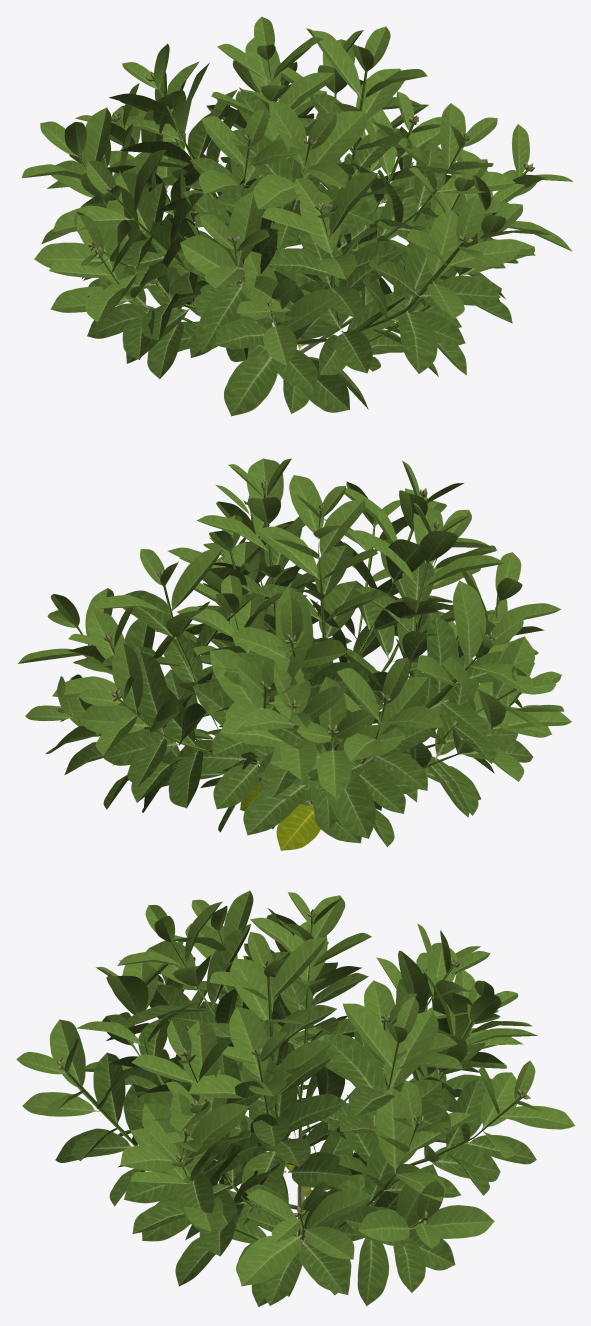
The model's file is geranium.glb.
3 renders of one model, top to bottom at view 1: azimuth 30°, elevation 25°; view 2: azimuth 150°, elevation 25°; view 3: azimuth 270°, elevation 25°, orthographic.
Parts seen in each view (by area): view 1: Ixora_chinensis_red_HD_Ixora leaf 01a_0, Ixora_chinensis_red_HD_Ixora leaf 01d_0, Ixora_chinensis_red_HD_Ixora twig_0, Ixora_chinensis_red_HD_Ixora branches_0, Ixora_chinensis_red_HD_Ixora bud_0; view 2: Ixora_chinensis_red_HD_Ixora leaf 01a_0, Ixora_chinensis_red_HD_Ixora leaf 01d_0, Ixora_chinensis_red_HD_Ixora twig_0, Ixora_chinensis_red_HD_Ixora leaf 01e_0, Ixora_chinensis_red_HD_Ixora bud_0; view 3: Ixora_chinensis_red_HD_Ixora leaf 01a_0, Ixora_chinensis_red_HD_Ixora leaf 01d_0, Ixora_chinensis_red_HD_Ixora twig_0, Ixora_chinensis_red_HD_Ixora bud_0, Ixora_chinensis_red_HD_Ixora branches_0.
Boxes of the visible parts, box(x1,y1,x2,y2) form: Ixora_chinensis_red_HD_Ixora leaf 01a_0: box(21, 16, 573, 365); Ixora_chinensis_red_HD_Ixora leaf 01d_0: box(41, 91, 518, 416); Ixora_chinensis_red_HD_Ixora twig_0: box(78, 60, 526, 326); Ixora_chinensis_red_HD_Ixora branches_0: box(182, 234, 404, 378); Ixora_chinensis_red_HD_Ixora bud_0: box(87, 45, 534, 307); Ixora_chinensis_red_HD_Ixora leaf 01a_0: box(18, 458, 571, 797); Ixora_chinensis_red_HD_Ixora leaf 01d_0: box(60, 523, 534, 847); Ixora_chinensis_red_HD_Ixora twig_0: box(65, 490, 521, 768); Ixora_chinensis_red_HD_Ixora leaf 01e_0: box(240, 777, 320, 850); Ixora_chinensis_red_HD_Ixora bud_0: box(57, 480, 498, 734); Ixora_chinensis_red_HD_Ixora leaf 01a_0: box(16, 890, 575, 1286); Ixora_chinensis_red_HD_Ixora leaf 01d_0: box(55, 923, 536, 1306); Ixora_chinensis_red_HD_Ixora twig_0: box(62, 918, 521, 1243); Ixora_chinensis_red_HD_Ixora bud_0: box(57, 909, 530, 1224); Ixora_chinensis_red_HD_Ixora branches_0: box(232, 1082, 425, 1241).
Bounding box in the file's own units: 0.8351 × 0.5793 × 0.7782.
Materials: 6 (6 with a texture image).
